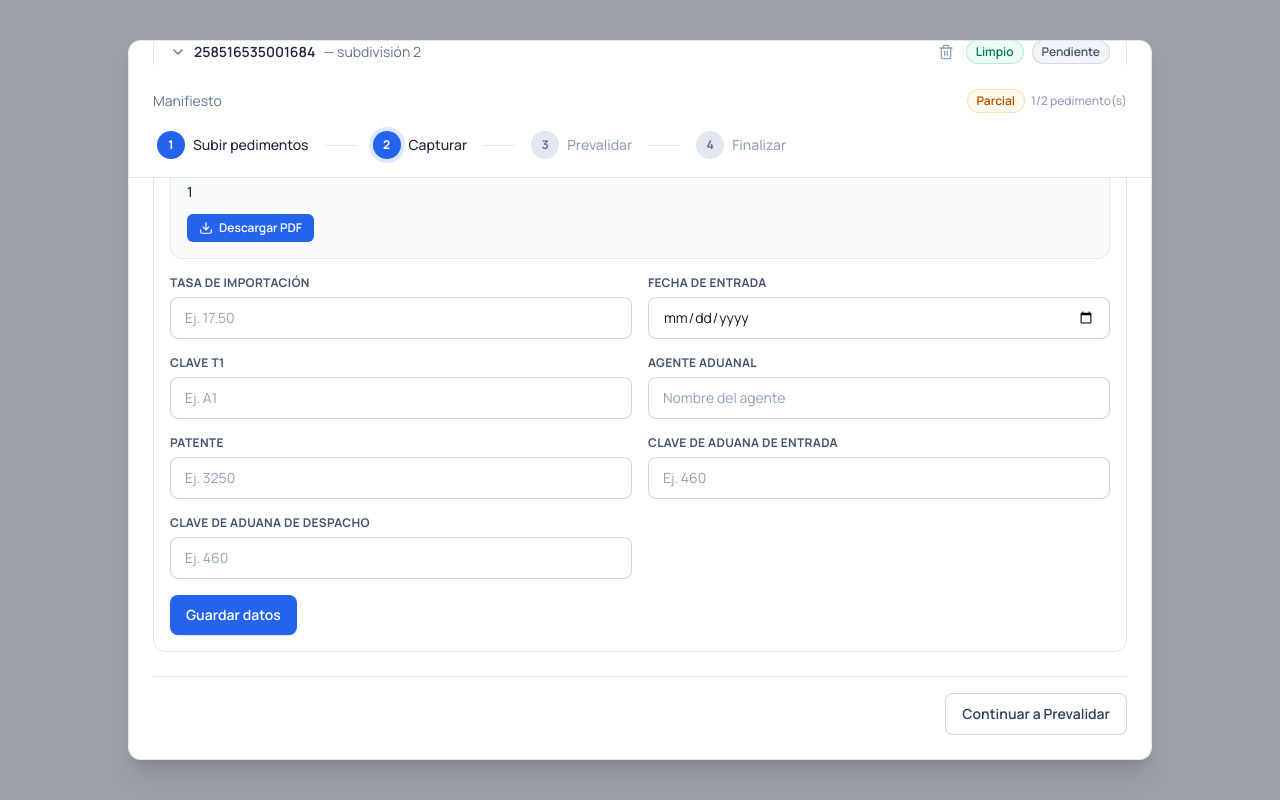
CaptureWorkspace — phase continue buttons › Capturar shows "Continuar a Prevalidar" which advances the phase
(page scrolled)
Click the button "Continuar a Prevalidar" at (1036, 714), box [945,693,1127,735]
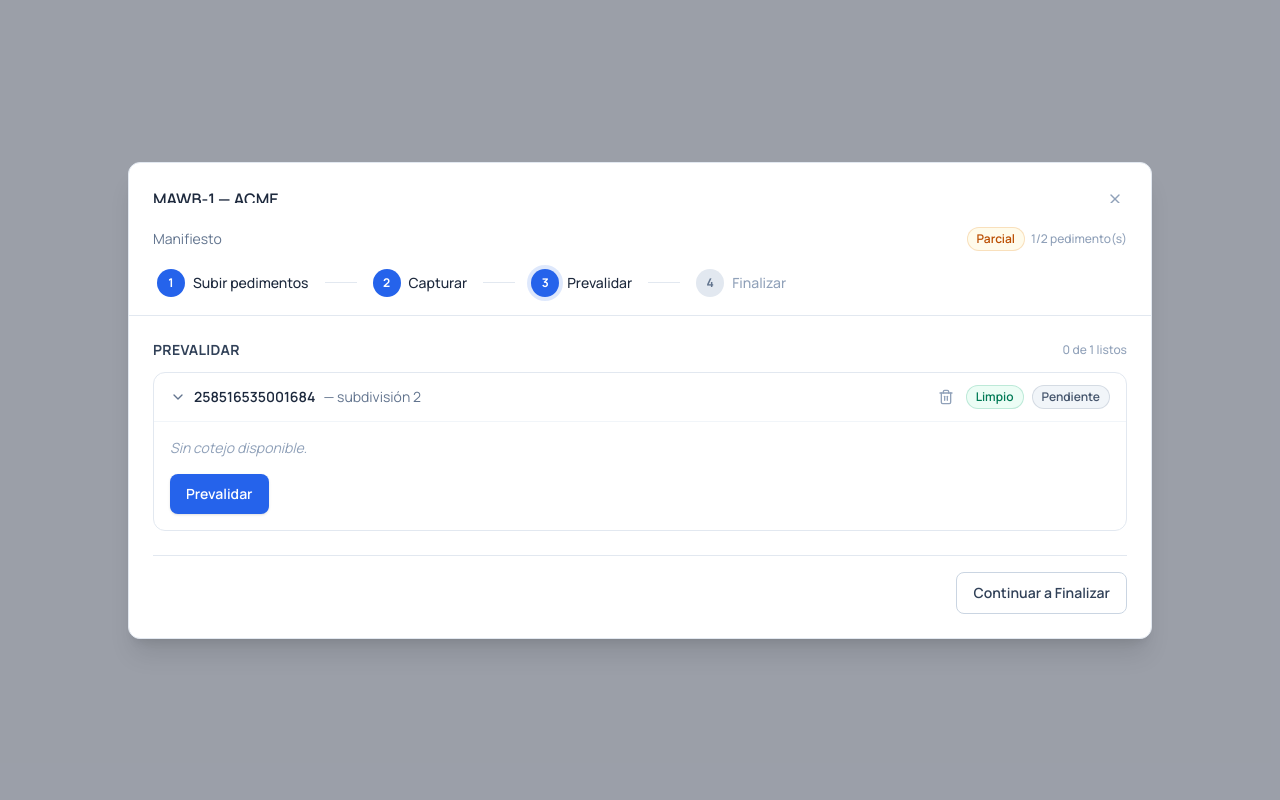
Check: the button "Continuar a Finalizar" is shown, box [956,572,1127,614]
